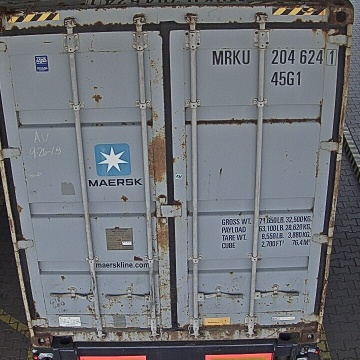serial_id: (212, 49, 336, 64)
